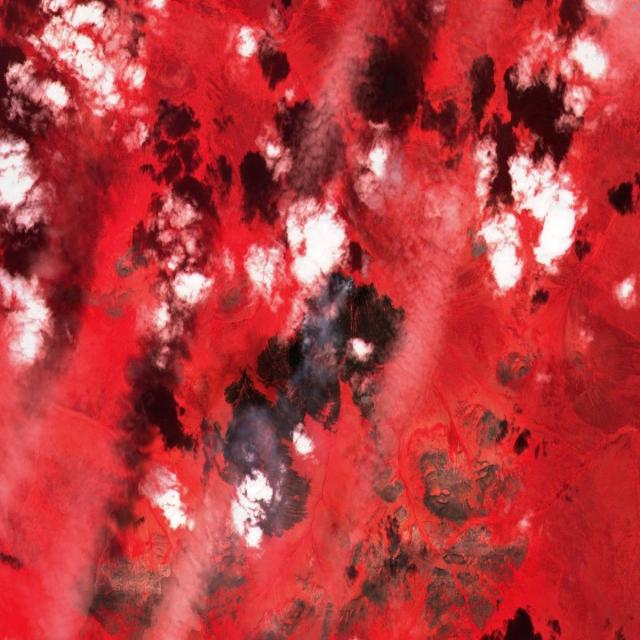fire: (327, 264, 361, 304)
